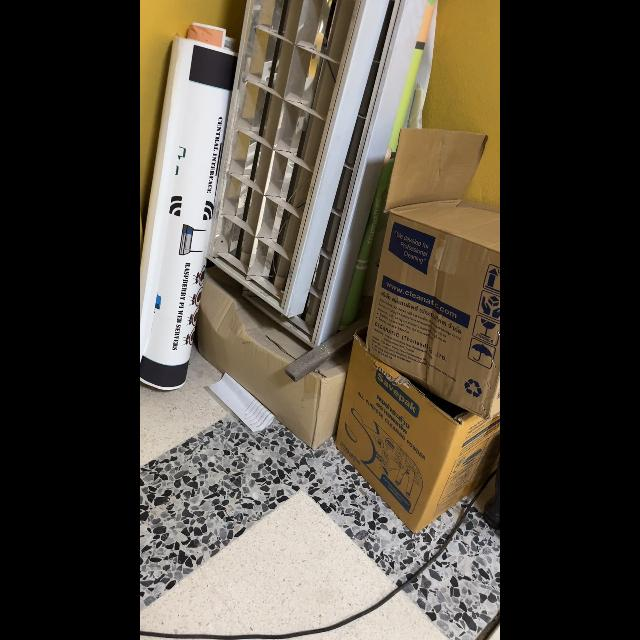cardboard_box: (362, 125, 500, 412), (340, 339, 500, 535)
